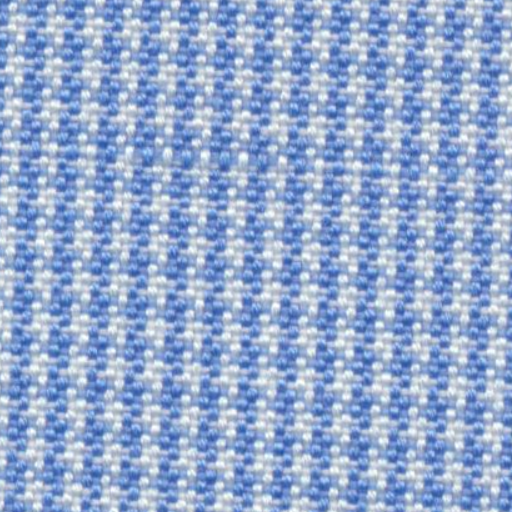TuoSha: (12, 118, 488, 222)
